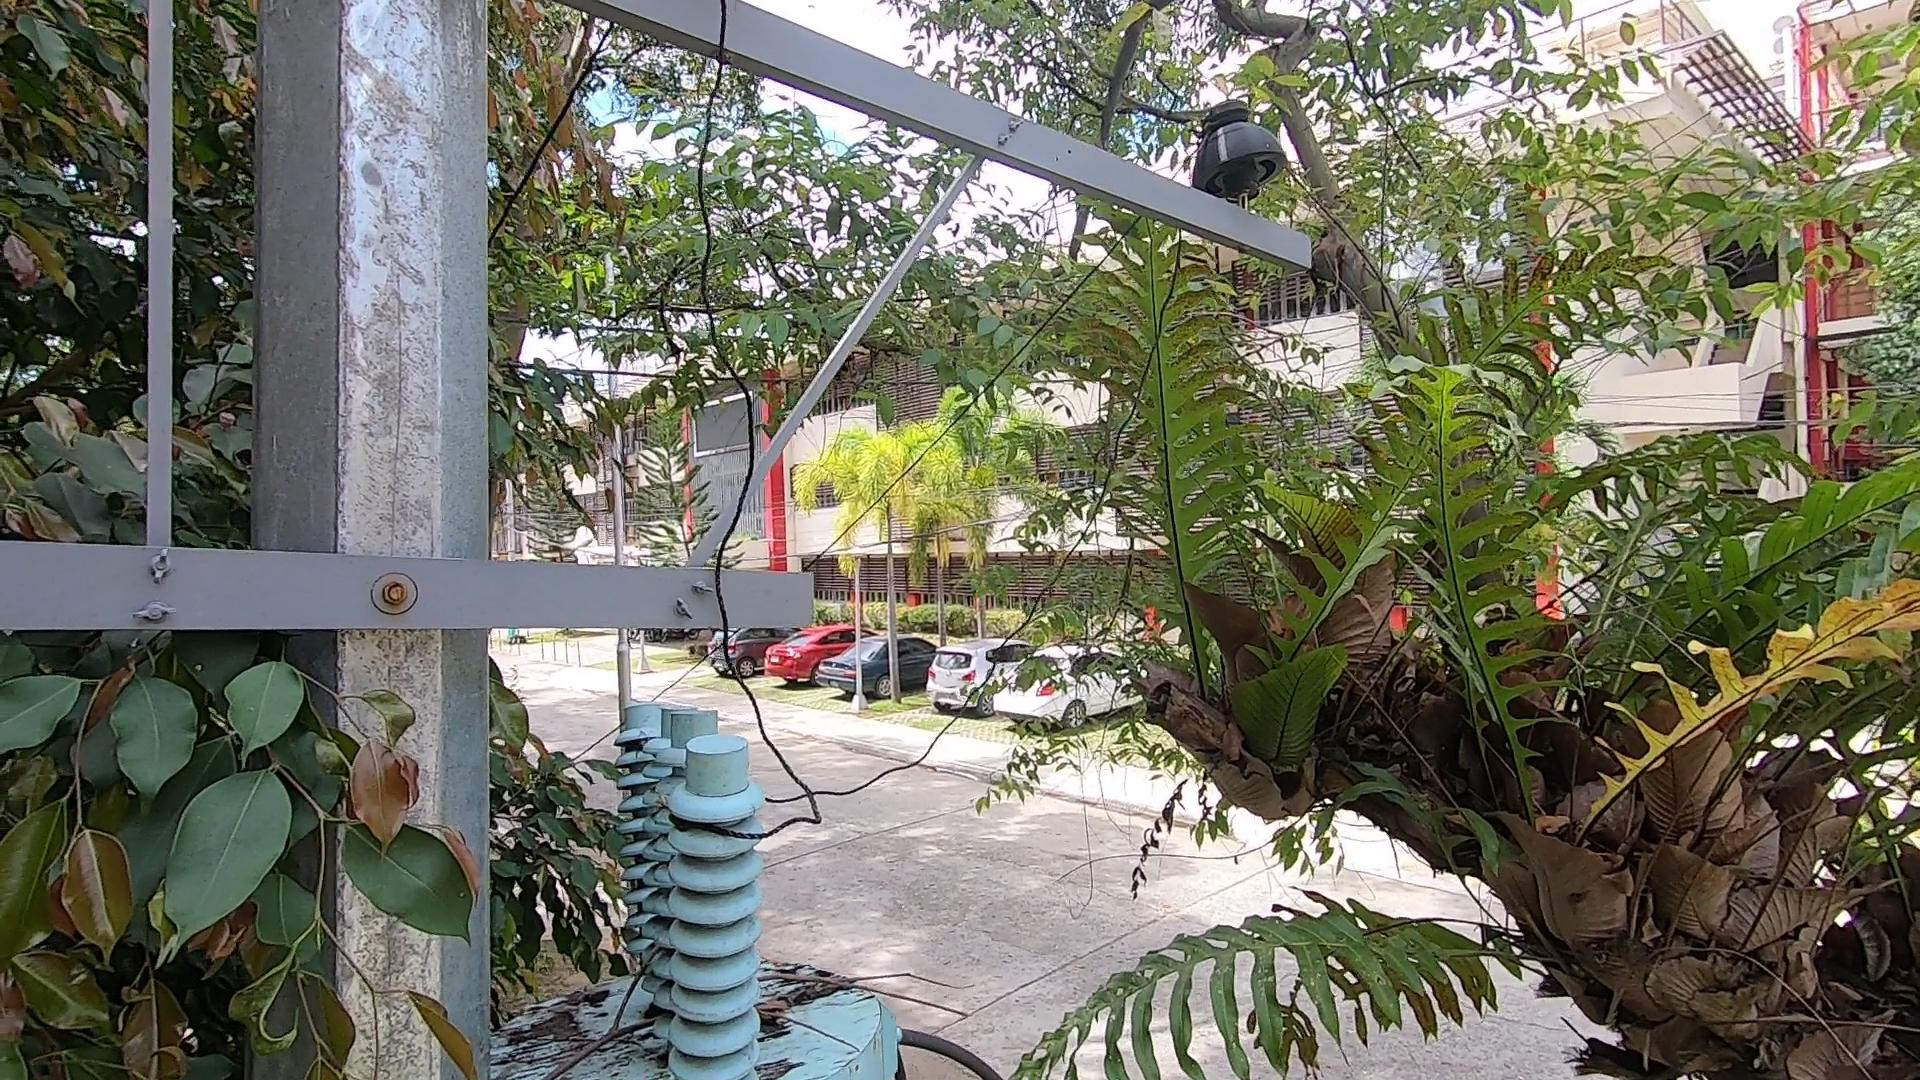branch with leaves: (13, 653, 498, 1080)
leaf: (516, 1009, 595, 1055), (752, 986, 796, 1029)
tree branch: (476, 982, 1007, 1077)
